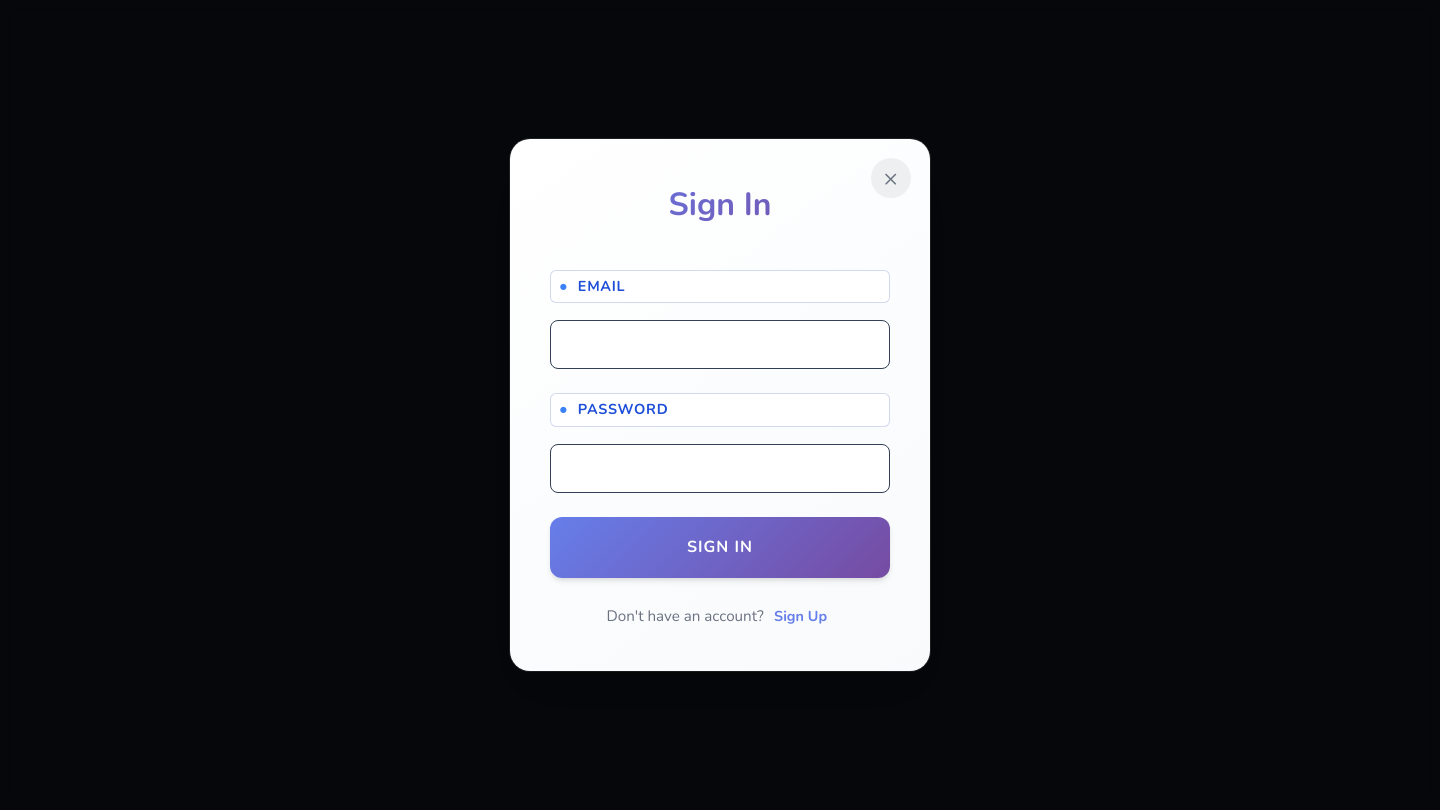
Test: AuthModal Component › Mode Switching › switches from login to signup mode
expect the heading "Sign In" is shown: met, box left=550, top=179, right=890, bottom=230
expect the field labelled "display name" is not shown: met
# Click switch to signup
Click the button "Sign Up" at (801, 617), box left=768, top=602, right=834, bottom=631
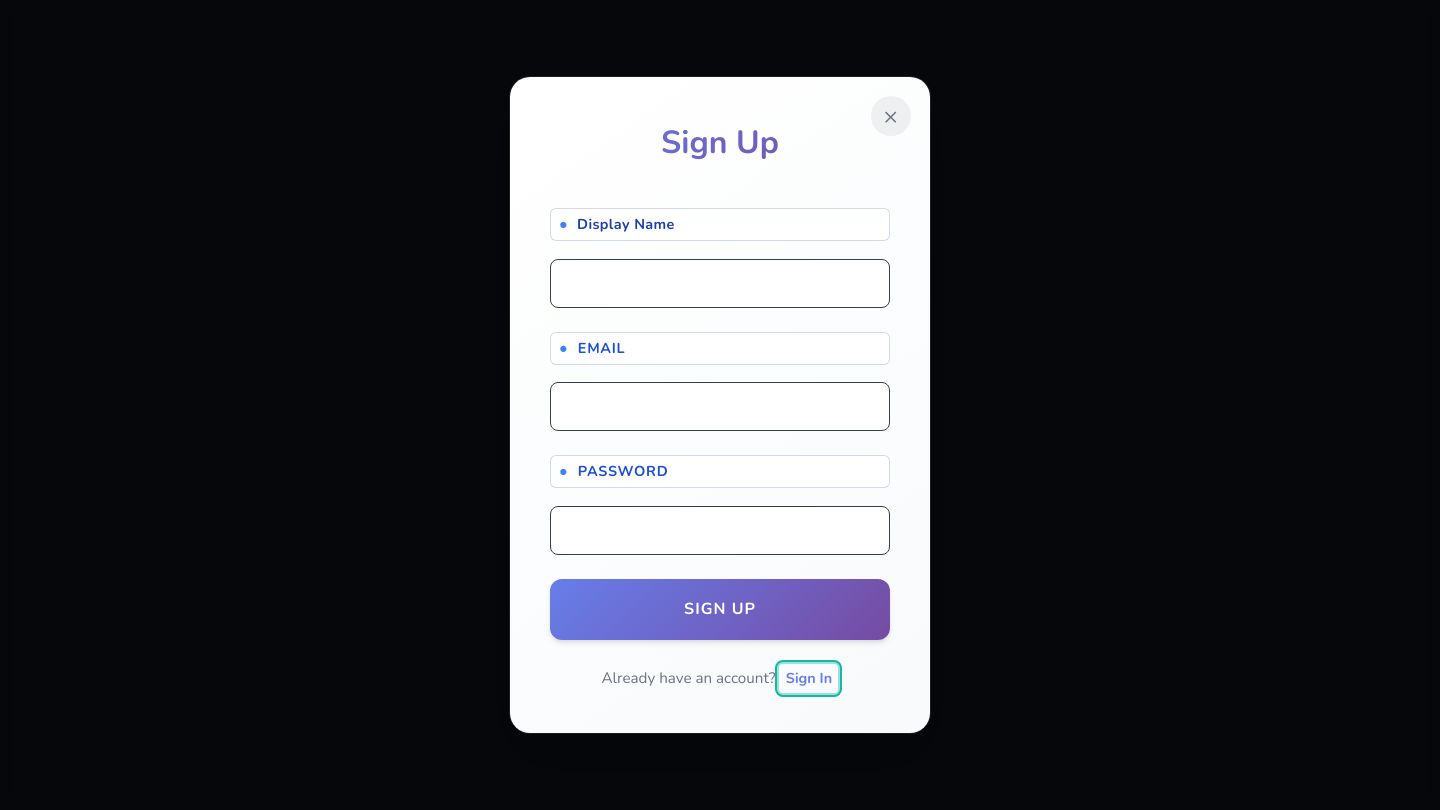
expect the heading "Sign Up" is shown: met, box left=550, top=117, right=890, bottom=168
expect the field labelled "Display Name" is shown: met, box left=550, top=259, right=890, bottom=308
